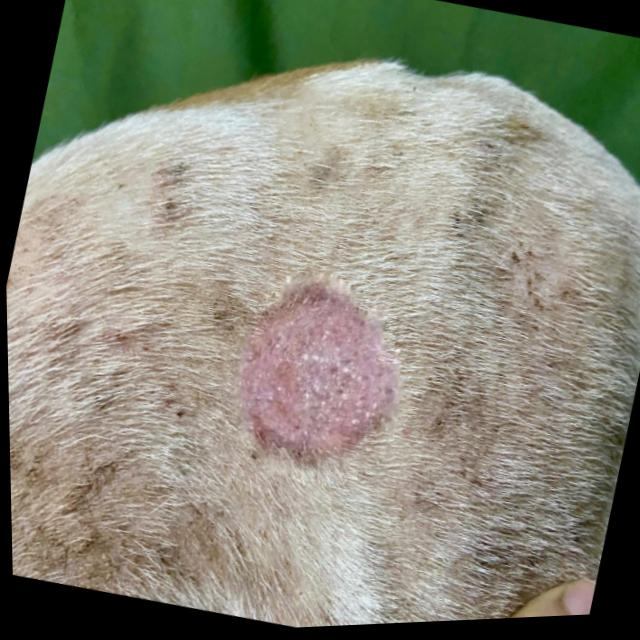ringworm: (214, 250, 405, 496)
